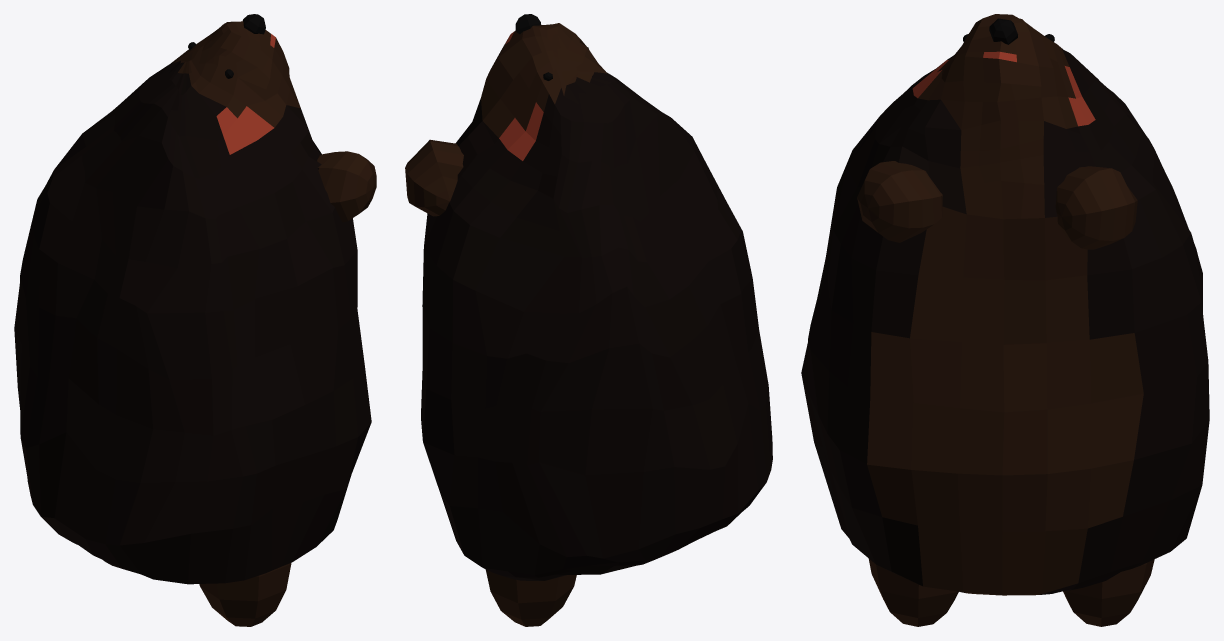
The model's file is player.obj.
The picture shows the model from 3 angles, left to right: view 1: azimuth 30°, elevation 25°; view 2: azimuth 150°, elevation 25°; view 3: azimuth 270°, elevation 25°; orthographic projection. The views are drawn at different scales.
Parts seen in each view (by area): view 1: Sphere.001, Sphere_Sphere.003; view 2: Sphere.001, Sphere.002_Sphere.004; view 3: Sphere.001, Sphere.002_Sphere.004, Sphere_Sphere.003, Sphere.003_Sphere.005.
Boxes of the visible parts, x1=… form: Sphere.001: x1=14, y1=21, x2=376, y2=584; Sphere_Sphere.003: x1=199, y1=563, x2=291, y2=626; Sphere.001: x1=405, y1=23, x2=772, y2=580; Sphere.002_Sphere.004: x1=485, y1=569, x2=576, y2=626; Sphere.001: x1=801, y1=14, x2=1209, y2=595; Sphere.002_Sphere.004: x1=1063, y1=559, x2=1154, y2=626; Sphere_Sphere.003: x1=868, y1=558, x2=958, y2=626; Sphere.003_Sphere.005: x1=989, y1=18, x2=1017, y2=44.
Bounding box in the file's own units: 1.05 × 1.94 × 1.14.
